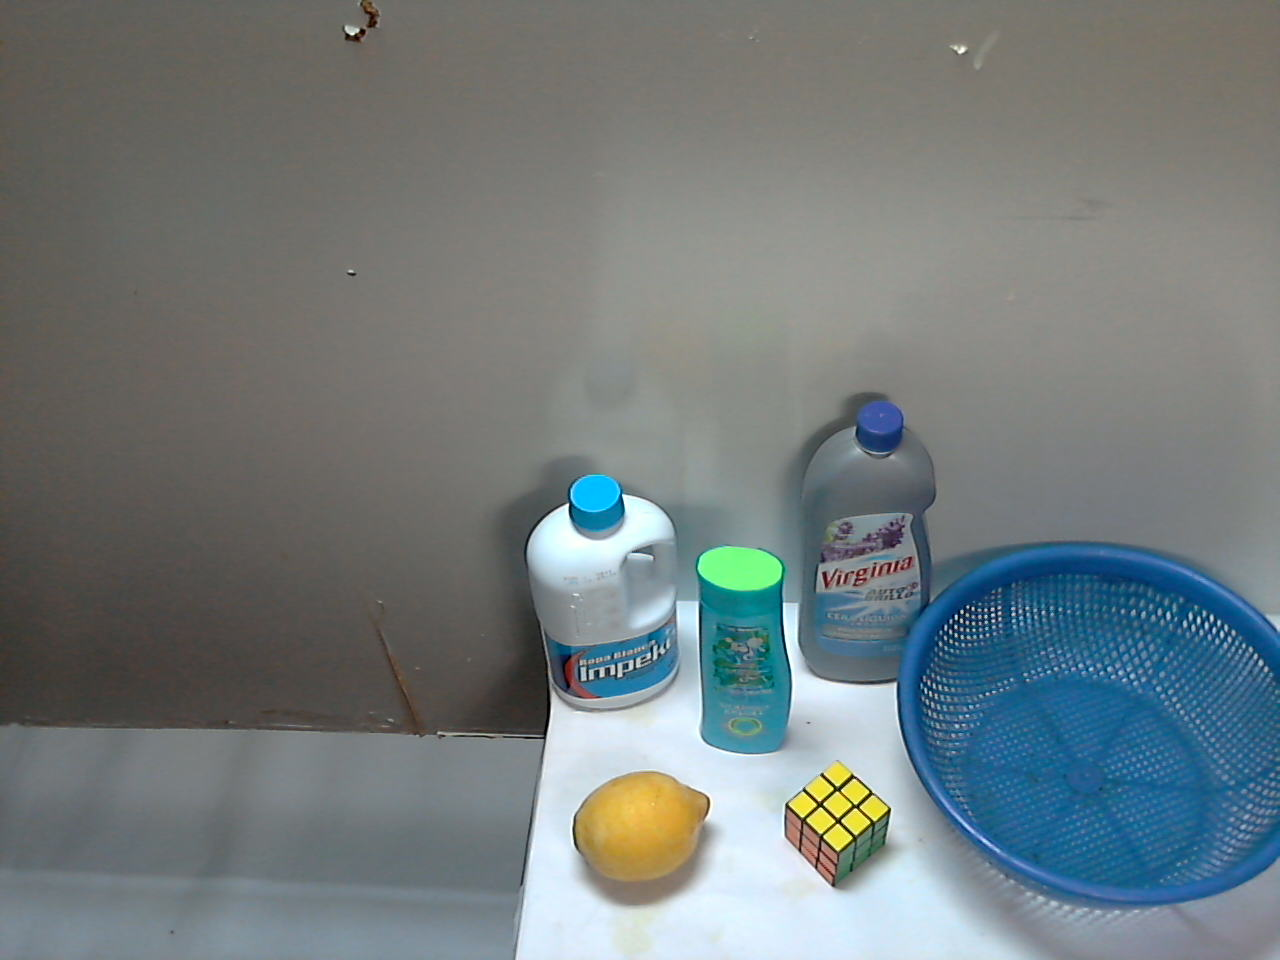aerosol: (795, 507, 916, 754)
confort: (892, 534, 1226, 904)
esponja: (755, 738, 912, 856)
harina: (474, 538, 646, 742)
pescado: (598, 638, 776, 826)
uslero: (464, 825, 1016, 960)
